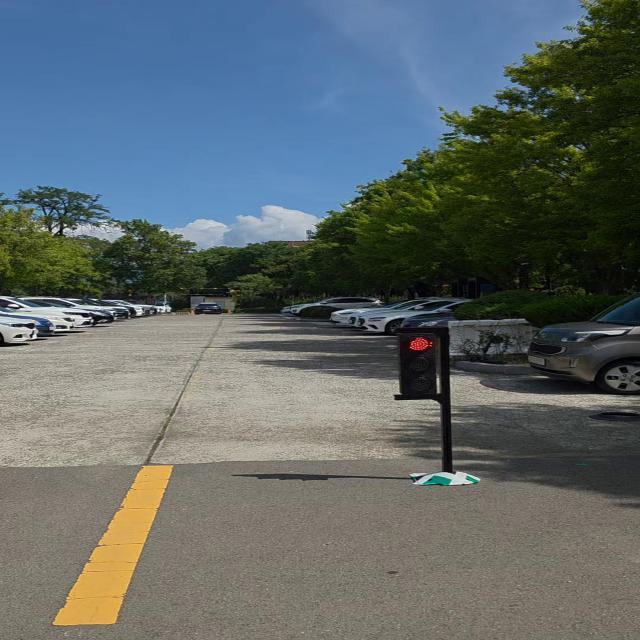red: (396, 330, 438, 398)
